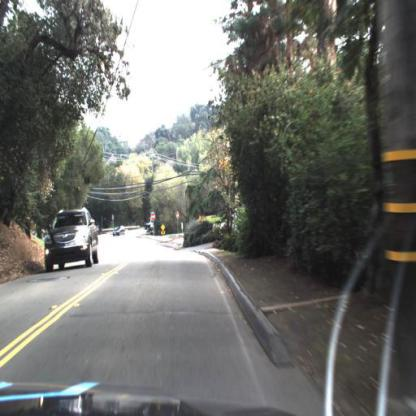car: (111, 223, 129, 241), (142, 215, 158, 235)
